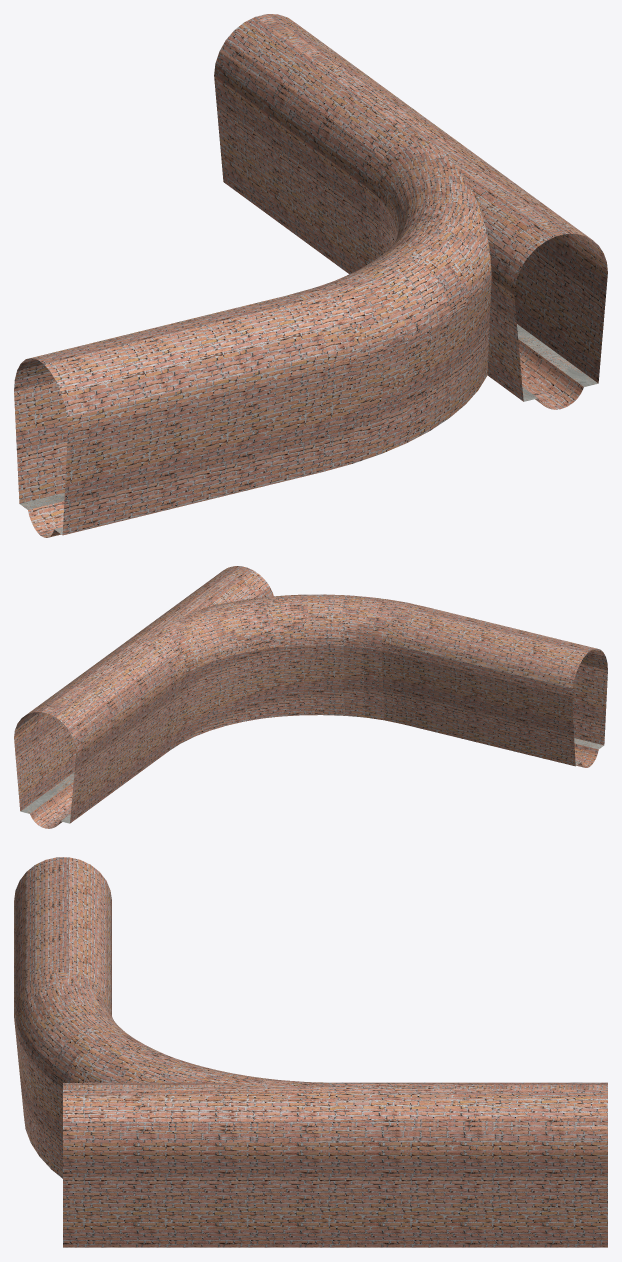
The picture shows the model from 3 angles, top to bottom: view 1: azimuth 30°, elevation 25°; view 2: azimuth 150°, elevation 25°; view 3: azimuth 270°, elevation 25°; orthographic projection. The views are drawn at different scales.
Parts seen in each view (by area): view 1: SketchUp (×3); view 2: SketchUp (×3); view 3: SketchUp (×2).
Boxes of the visible parts, x1,y1,x2,y2 form: SketchUp (×3): (14,14,607,537); SketchUp (×3): (14,566,607,828); SketchUp (×2): (14,857,607,1247).
Size of the model in its own units: 215 by 215 by 62.99.
